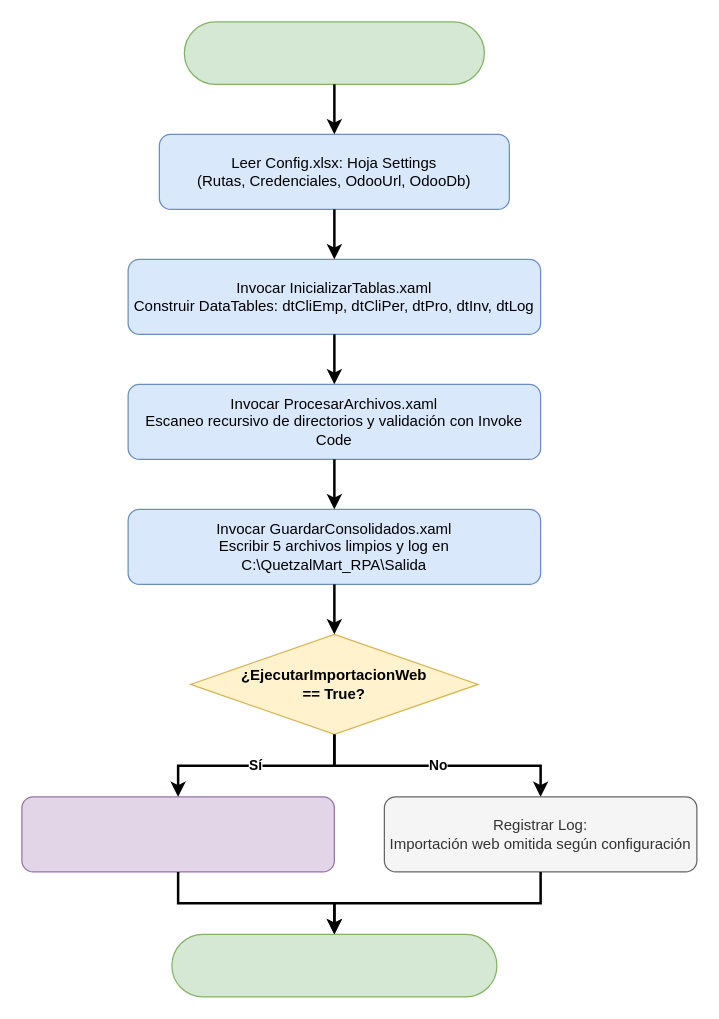
Some shapes in this 719 by 1019 pixel diagram are drawn without their labels. The box of each missing label's shape, as (x1, y1, x2, y2) in pixels:
Fin de Ejecución: Robot Finalizado con Éxito: (171, 933, 497, 997)
Inicio: Ejecución Main.xaml: (183, 21, 484, 84)
Invocar ImportarOdooWeb.xaml Automatización web de importación en Odoo: (21, 796, 334, 872)
